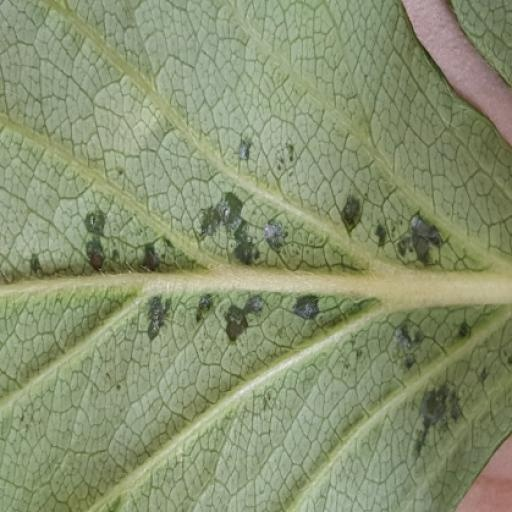Angular Leafspot: (0, 129, 500, 470)
